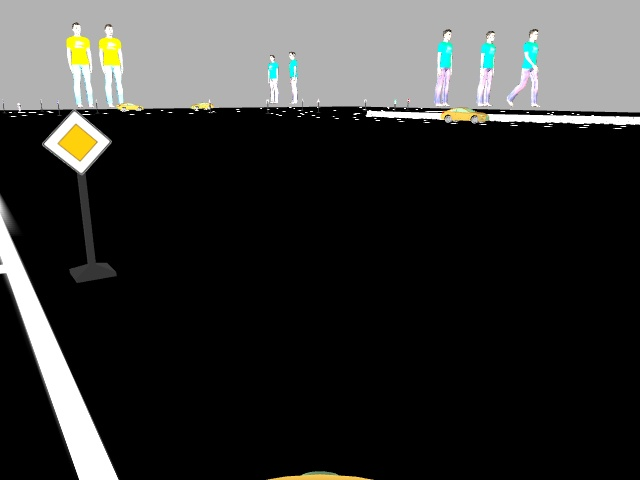Priority: (44, 104, 116, 175)
